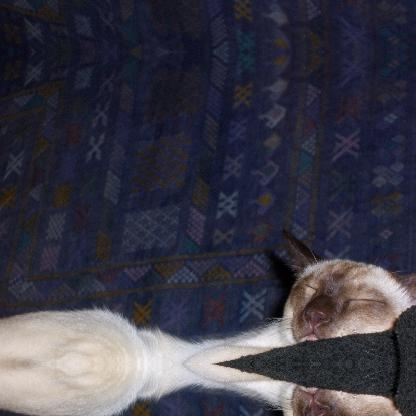Cat: (0, 229, 415, 364), (0, 365, 415, 415)
